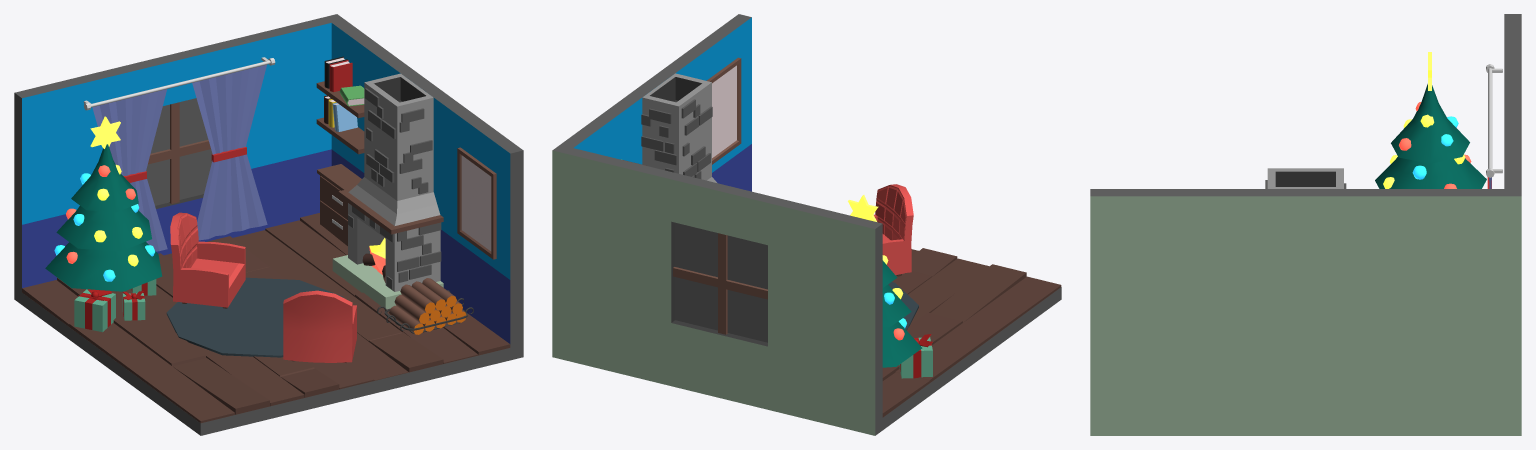
File: christmas_Pair2_BASE_colors.glb
3 views of the same model, side by side, from view 1: azimuth 30°, elevation 25°; view 2: azimuth 150°, elevation 25°; view 3: azimuth 270°, elevation 25° (orthographic). The views are drawn at different scales.
Parts seen in each view (by area): view 1: Room, Floor, Fireplace, Christmas_tree, Curtain2, Rug, Chair1, Chair2, Curtain1, Glass, Picture, Wood (+9 smaller); view 2: Room, Floor, Glass, Fireplace, Christmas_tree, Chair2, Picture, Window, Present1; view 3: Room, Christmas_tree, Fireplace, Curtain_rod_Material #246_0.
Part boxes in pixels (x1,y1,x2,y2): Room: (14, 14, 523, 435); Floor: (22, 213, 510, 422); Fireplace: (332, 73, 443, 309); Christmas_tree: (45, 116, 162, 298); Curtain2: (192, 64, 267, 240); Rug: (166, 277, 343, 357); Chair1: (170, 212, 245, 308); Chair2: (283, 290, 356, 362); Curtain1: (92, 89, 167, 251); Glass: (146, 98, 212, 205); Picture: (457, 147, 496, 259); Wood: (389, 278, 466, 334); Room: (552, 14, 1061, 435); Floor: (882, 248, 1061, 417); Glass: (674, 222, 767, 342); Fireplace: (641, 73, 716, 182); Christmas_tree: (848, 195, 922, 367); Chair2: (874, 184, 913, 276); Picture: (706, 57, 741, 164); Window: (673, 233, 767, 334); Present1: (899, 334, 932, 378); Room: (1090, 14, 1521, 435); Christmas_tree: (1375, 52, 1486, 188); Fireplace: (1265, 168, 1346, 188); Curtain_rod_Material #246_0: (1486, 64, 1502, 177).
Size of the model in its own units: 400 by 245 by 400.
Materials: 2 (1 with a texture image).
